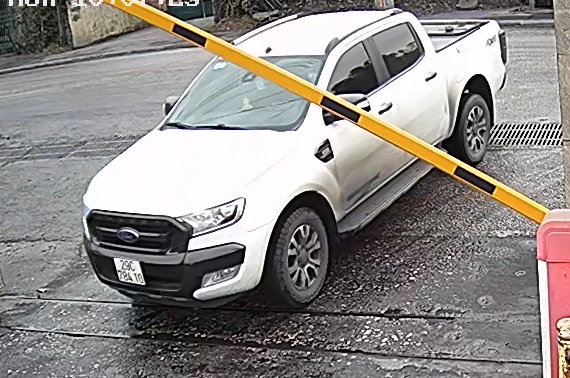vehicle plate: (111, 252, 147, 288)
